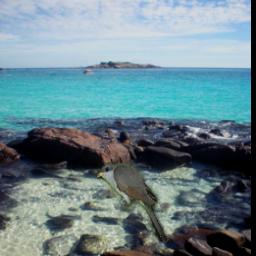Cuckoo: (96, 164, 166, 243)
